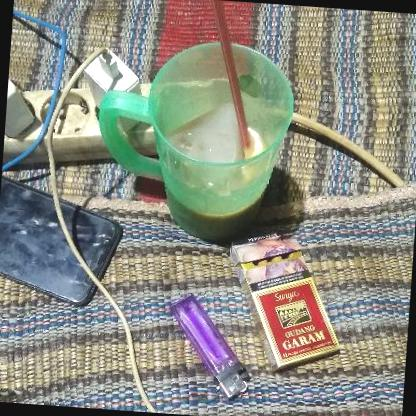objects: (223, 229, 348, 375)
